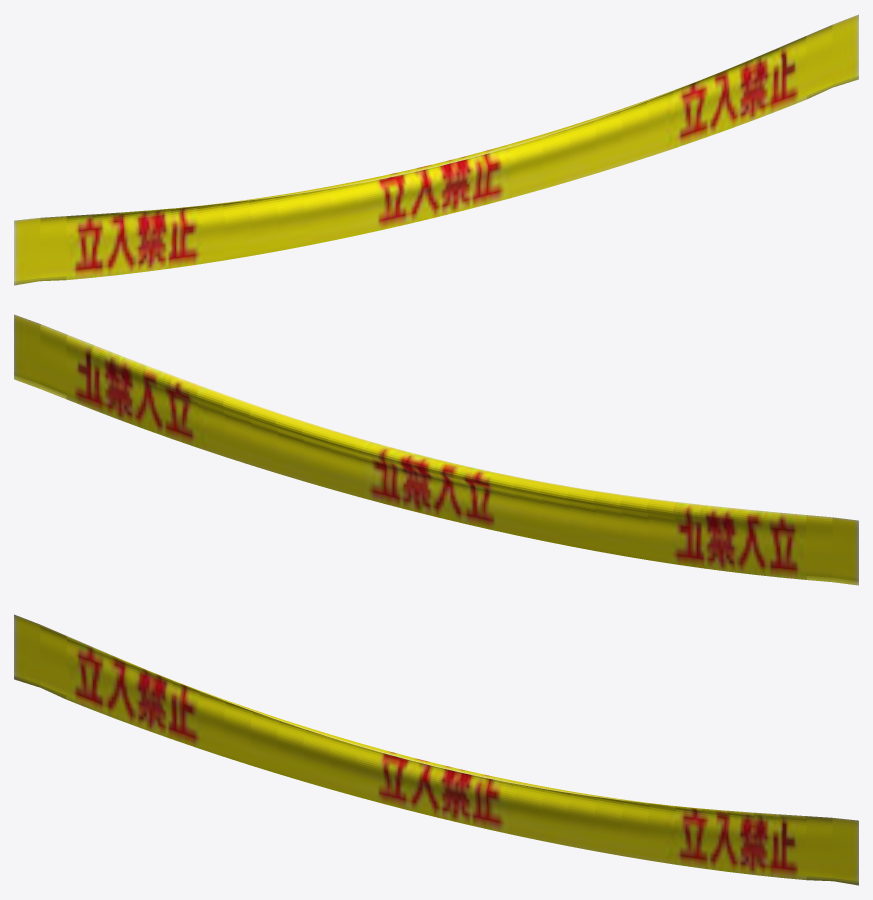
File: keepout.fbx
The picture shows the model from 3 angles, top to bottom: view 1: azimuth 30°, elevation 25°; view 2: azimuth 150°, elevation 25°; view 3: azimuth 330°, elevation 25°; orthographic projection.
Visible parts, largest first — view 1: 平面; view 2: 平面; view 3: 平面.
Part boxes in pixels (x1=…): 平面: x1=14, y1=14, x2=858, y2=285; 平面: x1=14, y1=314, x2=858, y2=585; 平面: x1=14, y1=614, x2=858, y2=885.
Bounding box in the file's own units: 6 × 0.6768 × 0.0796.
